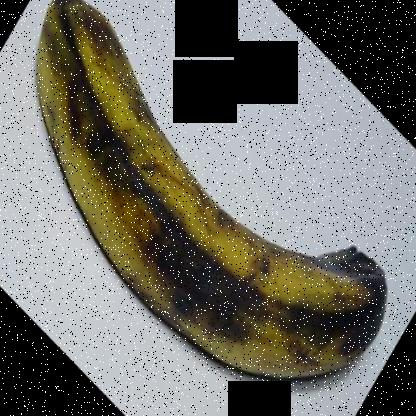overripe: (28, 0, 411, 399)
